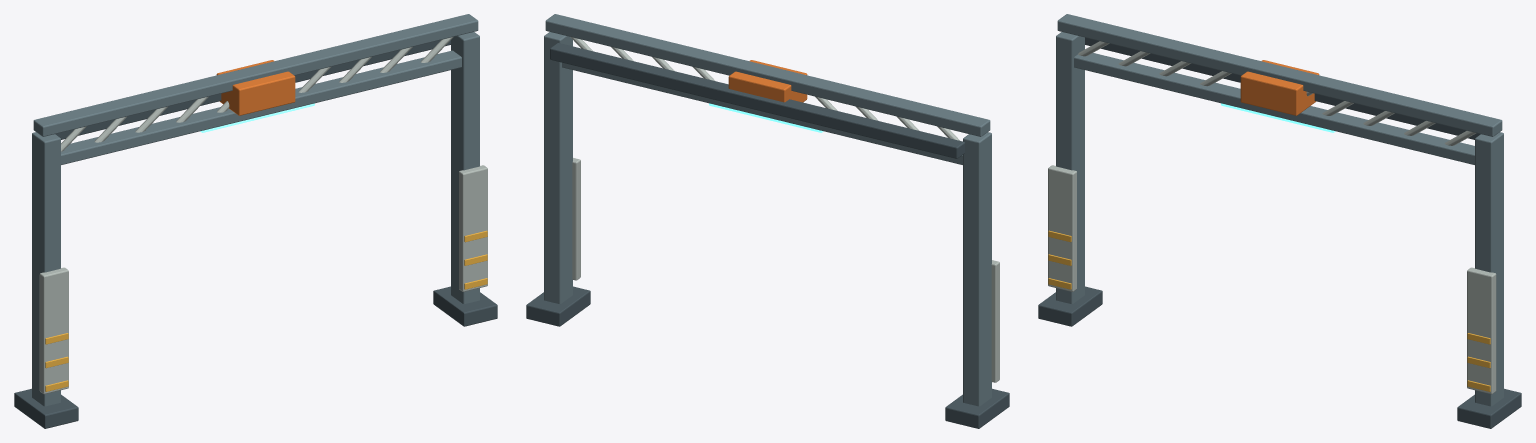
File: gantry_module_d0.glb
The picture shows the model from 3 angles, left to right: view 1: azimuth 30°, elevation 25°; view 2: azimuth 150°, elevation 25°; view 3: azimuth 330°, elevation 25°; orthographic projection.
Parts seen in each view (by area): view 1: Gantry truss chord.013, Gantry truss chord.012, Gantry column.024, Gantry column.025, Column armor.024, Column armor.025, Overhead carriage.006, Cable tray.006, Gantry footing.024, Gantry footing.025; view 2: Gantry truss chord.013, Cable tray.006, Gantry column.024, Gantry column.025, Gantry truss chord.012, Overhead carriage.006, Gantry footing.024, Gantry footing.025, Column armor.024, Column armor.025; view 3: Gantry truss chord.013, Gantry truss chord.012, Gantry column.025, Gantry column.024, Column armor.025, Column armor.024, Overhead carriage.006, Cable tray.006, Gantry footing.024, Gantry footing.025.
Part boxes in pixels (x1,y1,x2,y2): Gantry truss chord.013: [33, 14, 478, 136]; Gantry truss chord.012: [61, 50, 461, 164]; Gantry column.024: [32, 132, 60, 406]; Gantry column.025: [451, 32, 479, 304]; Column armor.024: [39, 267, 68, 394]; Column armor.025: [459, 165, 487, 291]; Overhead carriage.006: [216, 60, 295, 115]; Cable tray.006: [55, 40, 450, 139]; Gantry footing.024: [14, 388, 78, 428]; Gantry footing.025: [433, 286, 497, 326]; Gantry truss chord.013: [545, 14, 990, 136]; Cable tray.006: [550, 43, 964, 158]; Gantry column.024: [963, 132, 991, 406]; Gantry column.025: [544, 32, 572, 304]; Gantry truss chord.012: [562, 62, 962, 164]; Overhead carriage.006: [728, 60, 807, 102]; Gantry footing.024: [945, 388, 1009, 428]; Gantry footing.025: [526, 286, 590, 326]; Column armor.024: [991, 260, 999, 382]; Column armor.025: [572, 158, 580, 280]; Gantry truss chord.013: [1057, 14, 1502, 136]; Gantry truss chord.012: [1074, 53, 1474, 164]; Gantry column.025: [1475, 132, 1503, 406]; Gantry column.024: [1056, 32, 1084, 304]; Column armor.025: [1467, 267, 1496, 394]; Column armor.024: [1048, 165, 1076, 291]; Overhead carriage.006: [1240, 60, 1319, 115]; Cable tray.006: [1085, 37, 1480, 139]; Gantry footing.024: [1038, 286, 1102, 326]; Gantry footing.025: [1457, 388, 1521, 428].
Size of the model in its own units: 8 by 4.94 by 0.95.
